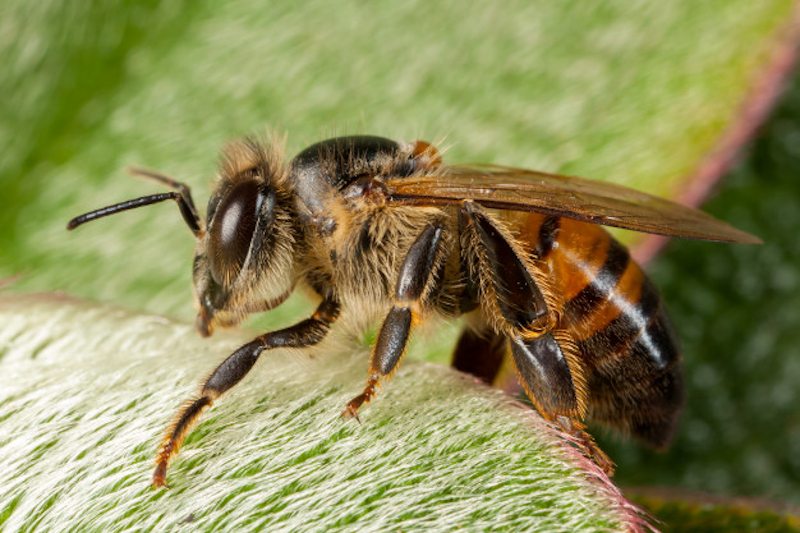abeja: (78, 99, 773, 515)
